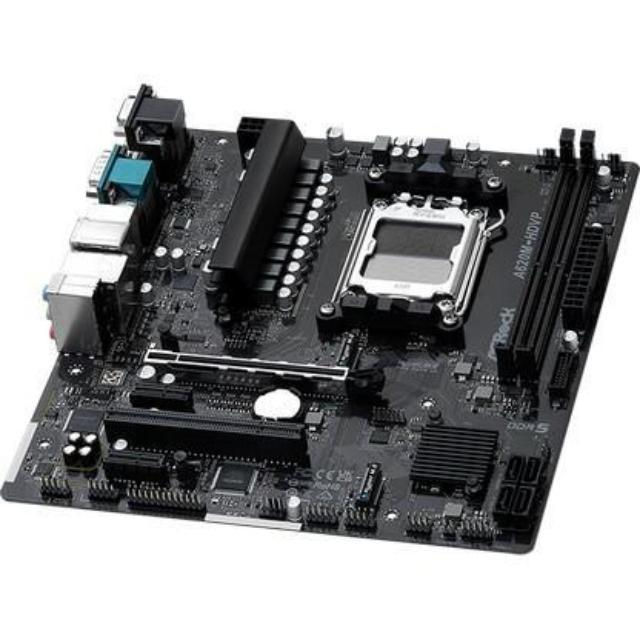Mainboard: (0, 85, 640, 563)
